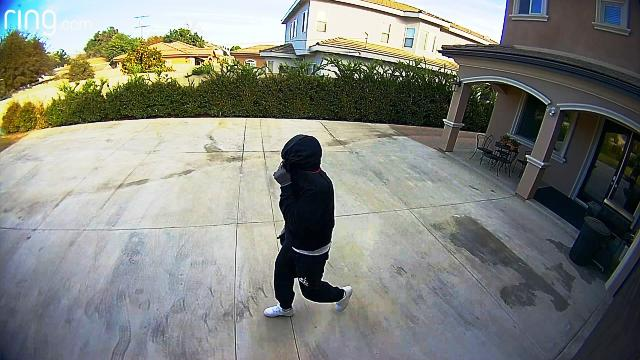berjalan: (252, 135, 362, 319)
